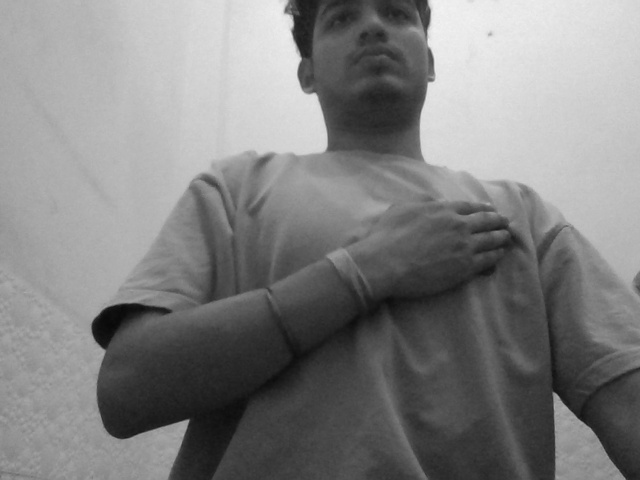Sorry: (308, 166, 576, 345)
